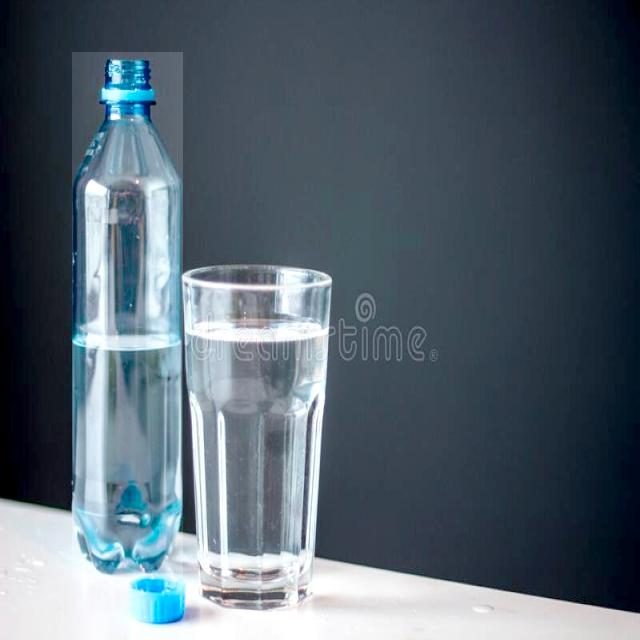half-bottle: (72, 52, 183, 579)
